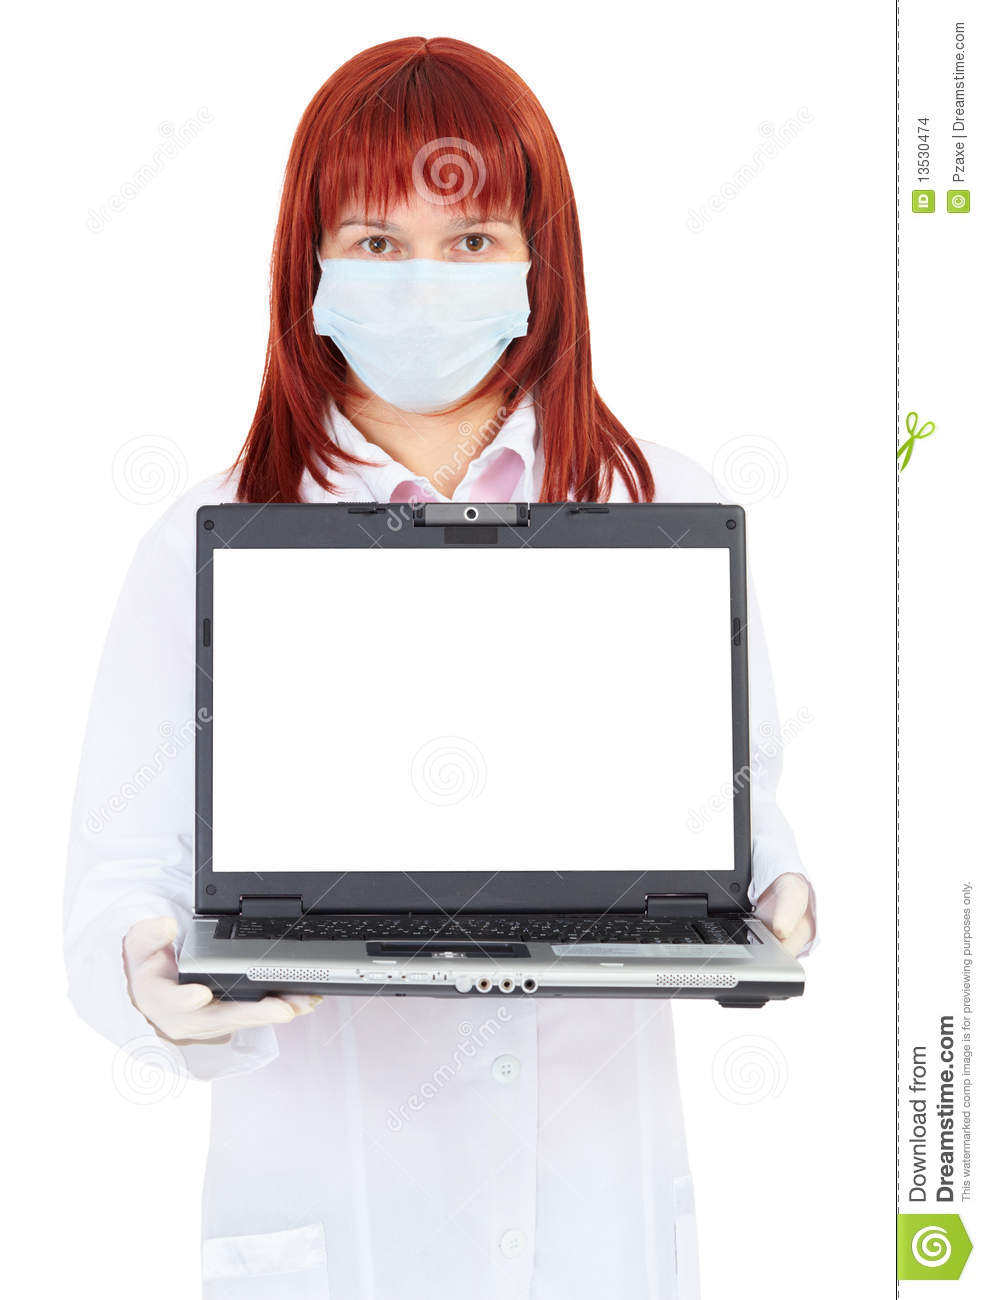mask: (319, 249, 547, 415)
